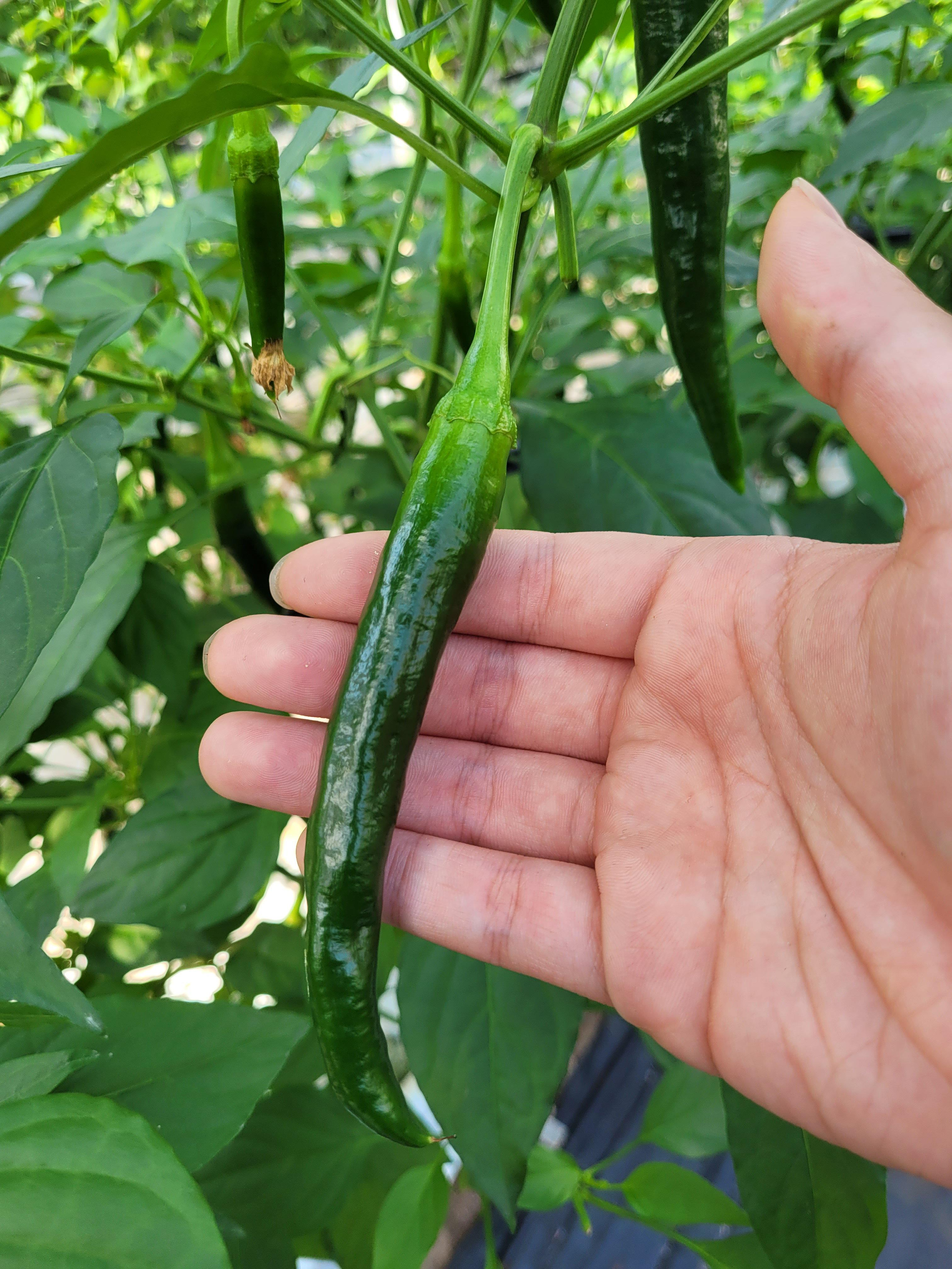Buah Cabai Sehat: (299, 319, 522, 1185)
